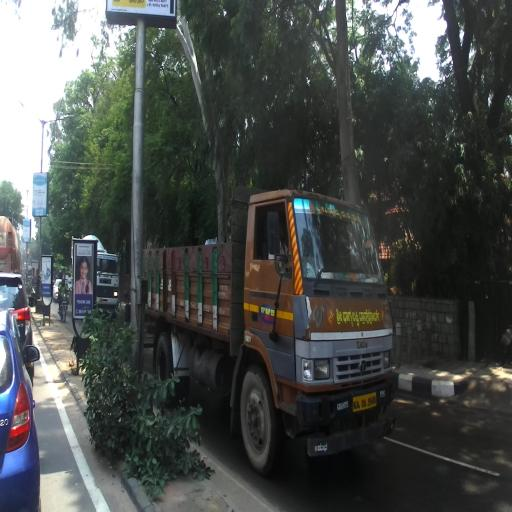street_light_0: (19, 100, 44, 130), (41, 112, 73, 132)
